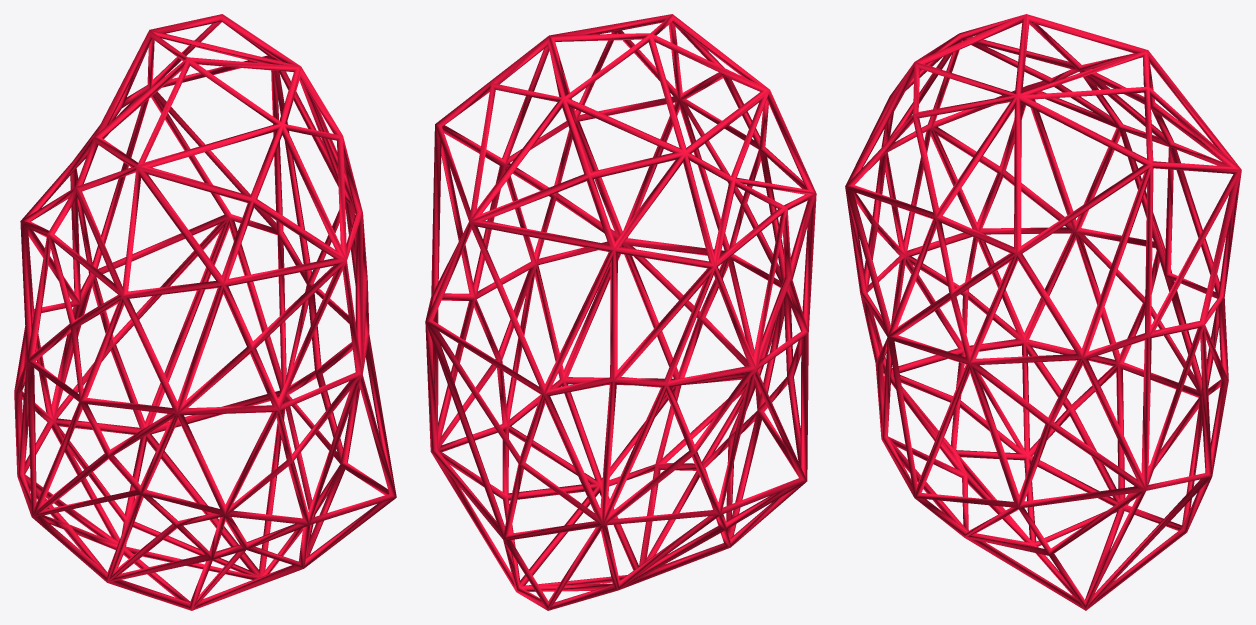
File: asteroidiWIRE_BLEND.fbx
The picture shows the model from 3 angles, left to right: view 1: azimuth 30°, elevation 25°; view 2: azimuth 150°, elevation 25°; view 3: azimuth 270°, elevation 25°; orthographic projection. The views are drawn at different scales.
Visible parts, largest first — view 1: Icosphere; view 2: Icosphere; view 3: Icosphere.
Boxes of the visible parts, left/top/right/bottom form: Icosphere: left=14, top=14, right=396, bottom=610; Icosphere: left=425, top=14, right=816, bottom=610; Icosphere: left=845, top=14, right=1241, bottom=610.
Bounding box in the file's own units: 1.96 × 3.35 × 2.2.
